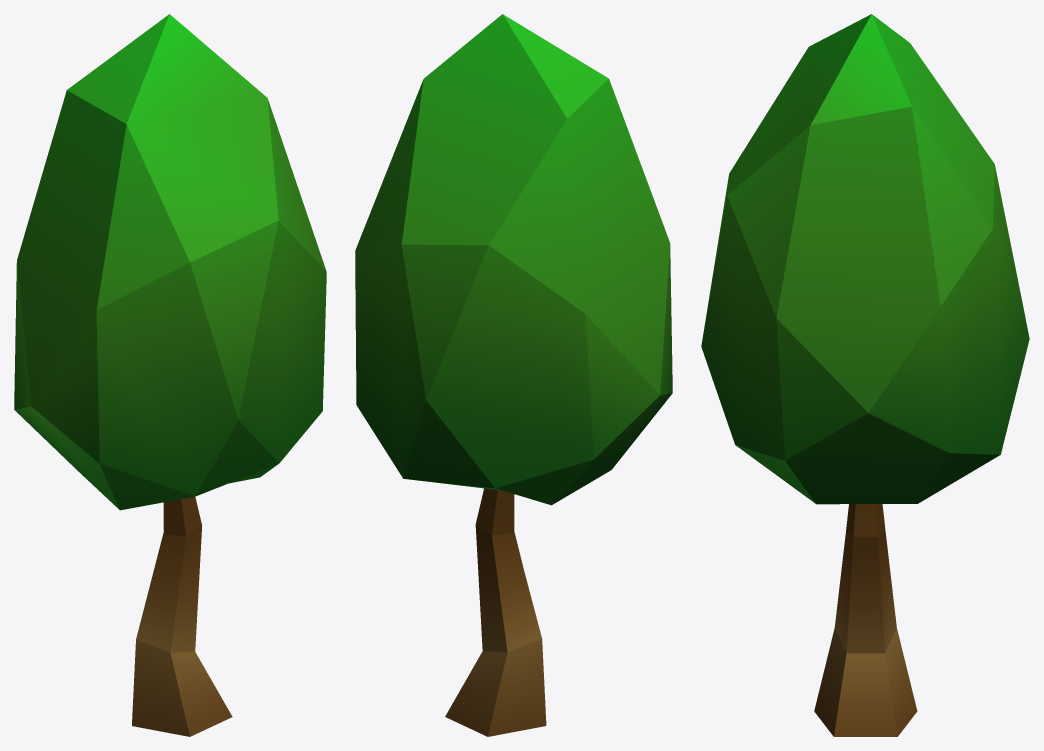
The model's file is OneTree.FBX.
3 renders of one model, left to right at view 1: azimuth 30°, elevation 25°; view 2: azimuth 150°, elevation 25°; view 3: azimuth 270°, elevation 25°, orthographic.
Parts seen in each view (by area): view 1: OneTree; view 2: OneTree; view 3: OneTree.
Boxes of the visible parts, x1=… form: OneTree: x1=14, y1=14, x2=326, y2=736; OneTree: x1=355, y1=14, x2=672, y2=736; OneTree: x1=701, y1=14, x2=1029, y2=736.
Size of the model in its own units: 138 by 325 by 138.
